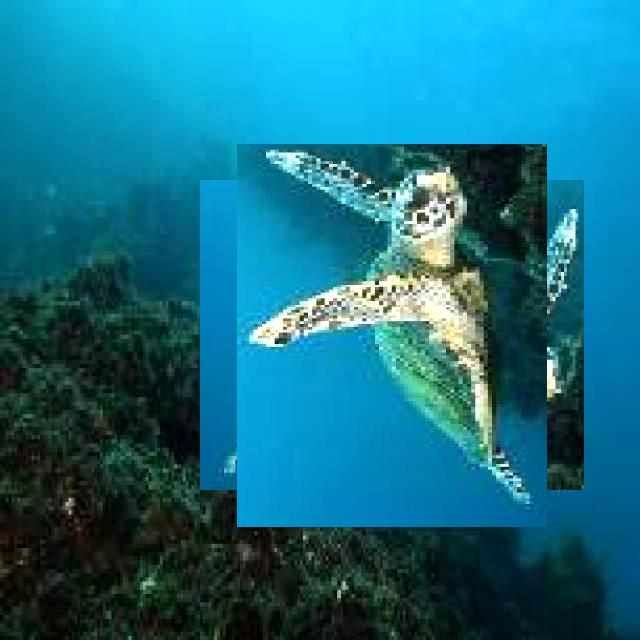Sea turtle: (218, 161, 566, 509)
